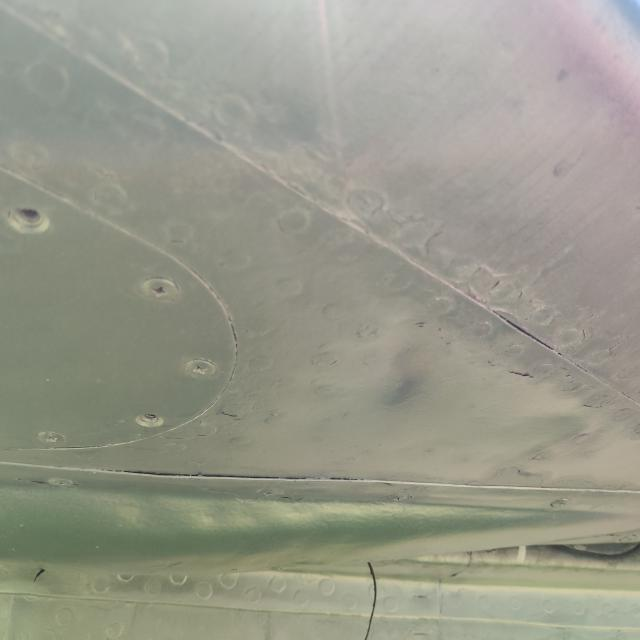dent: (346, 312, 459, 423)
missing-head: (0, 188, 69, 255), (119, 387, 183, 456)
